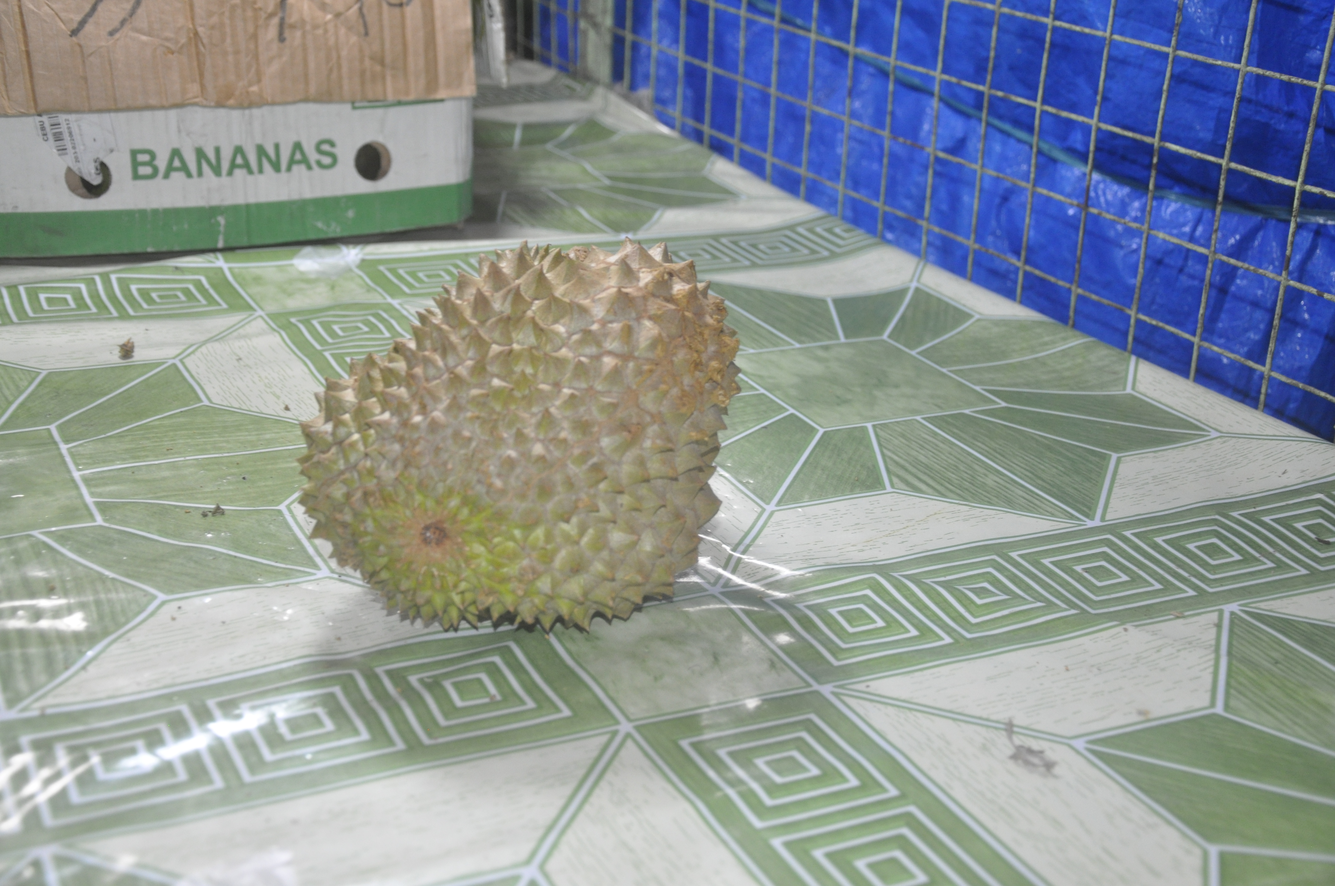mature: (299, 239, 739, 647)
